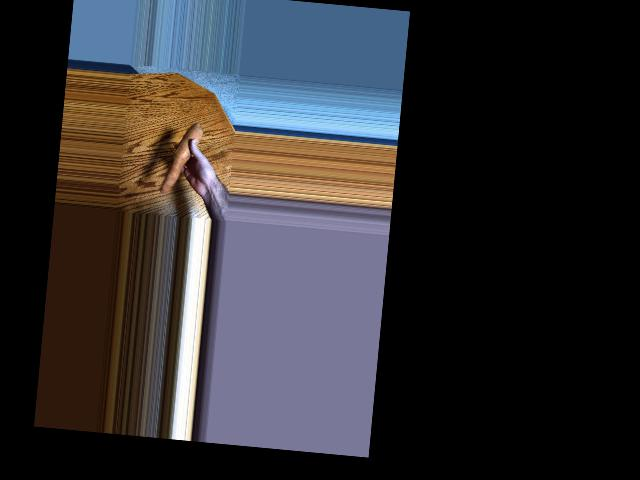sweet_potato: (164, 118, 195, 196)
